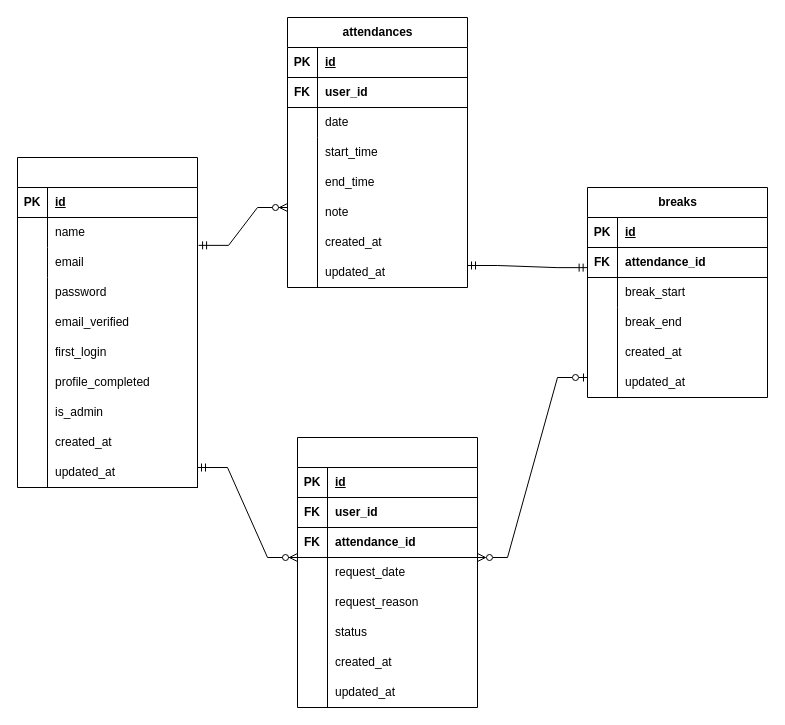
This 785x725 diagram has some shape labels left out. Each missing label, with the box of its shape:
requests: (296, 436, 478, 708)
users: (16, 156, 198, 488)
